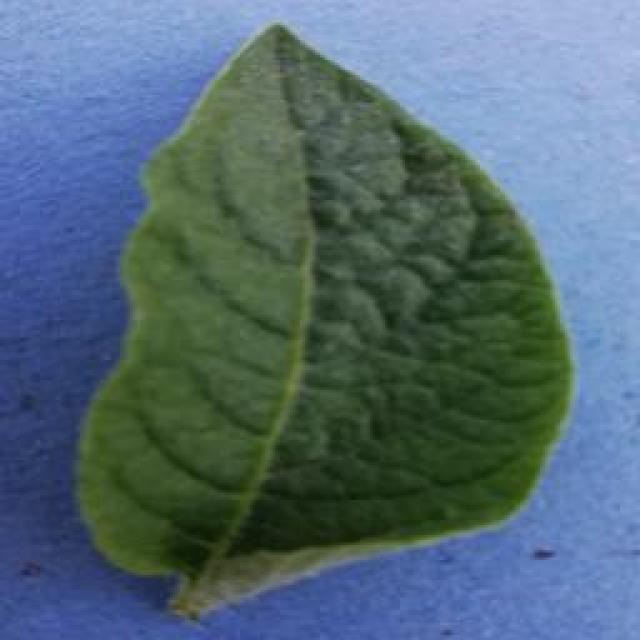Potato_Healthy: (77, 21, 571, 614)
